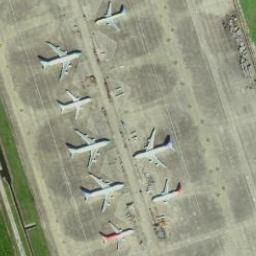Airplane: (34, 38, 84, 82), (62, 124, 111, 168), (130, 126, 174, 170), (79, 172, 122, 214), (98, 221, 138, 252), (152, 178, 187, 212), (94, 0, 128, 32), (54, 90, 92, 118)
